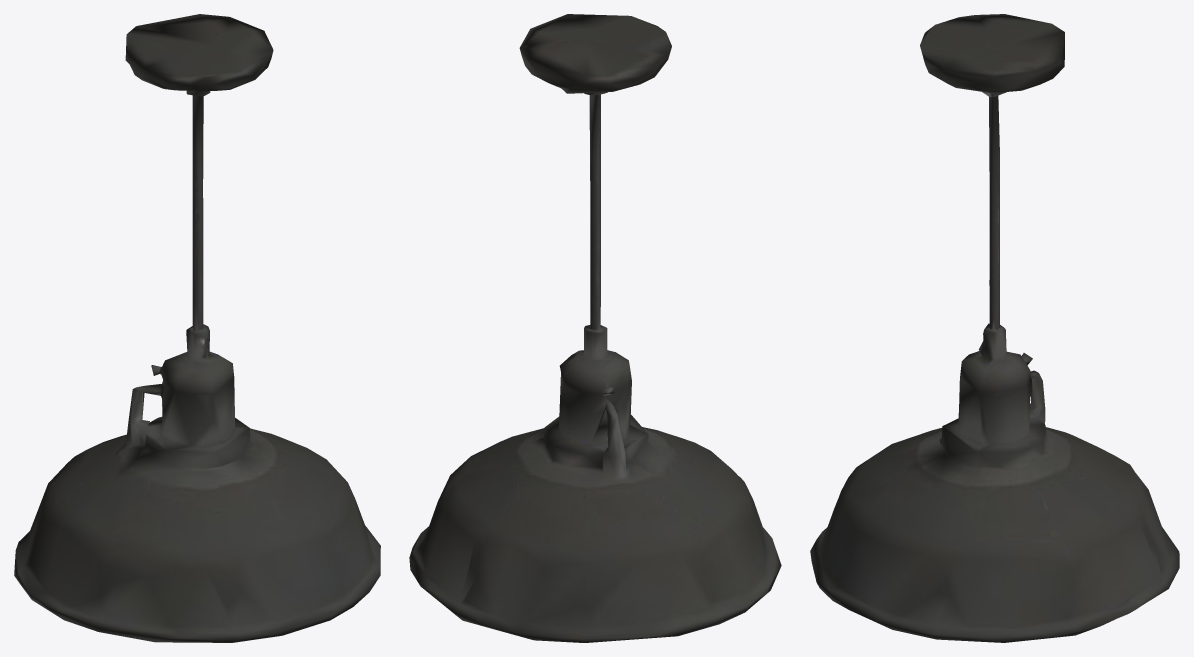
The model's file is 工业风吊灯.glb.
The picture shows the model from 3 angles, left to right: view 1: azimuth 30°, elevation 25°; view 2: azimuth 150°, elevation 25°; view 3: azimuth 270°, elevation 25°; orthographic projection.
Parts seen in each view (by area): view 1: tripo_node_3a983aee-4bda-4e78-8388-1591fd5a67c0; view 2: tripo_node_3a983aee-4bda-4e78-8388-1591fd5a67c0; view 3: tripo_node_3a983aee-4bda-4e78-8388-1591fd5a67c0.
Part boxes in pixels (bbox=[...]): tripo_node_3a983aee-4bda-4e78-8388-1591fd5a67c0: bbox=[14, 14, 380, 642]; tripo_node_3a983aee-4bda-4e78-8388-1591fd5a67c0: bbox=[409, 14, 781, 642]; tripo_node_3a983aee-4bda-4e78-8388-1591fd5a67c0: bbox=[810, 14, 1179, 642].
Bounding box in the file's own units: 0.584 × 1 × 0.5821.
Materials: 1 (1 with a texture image).
